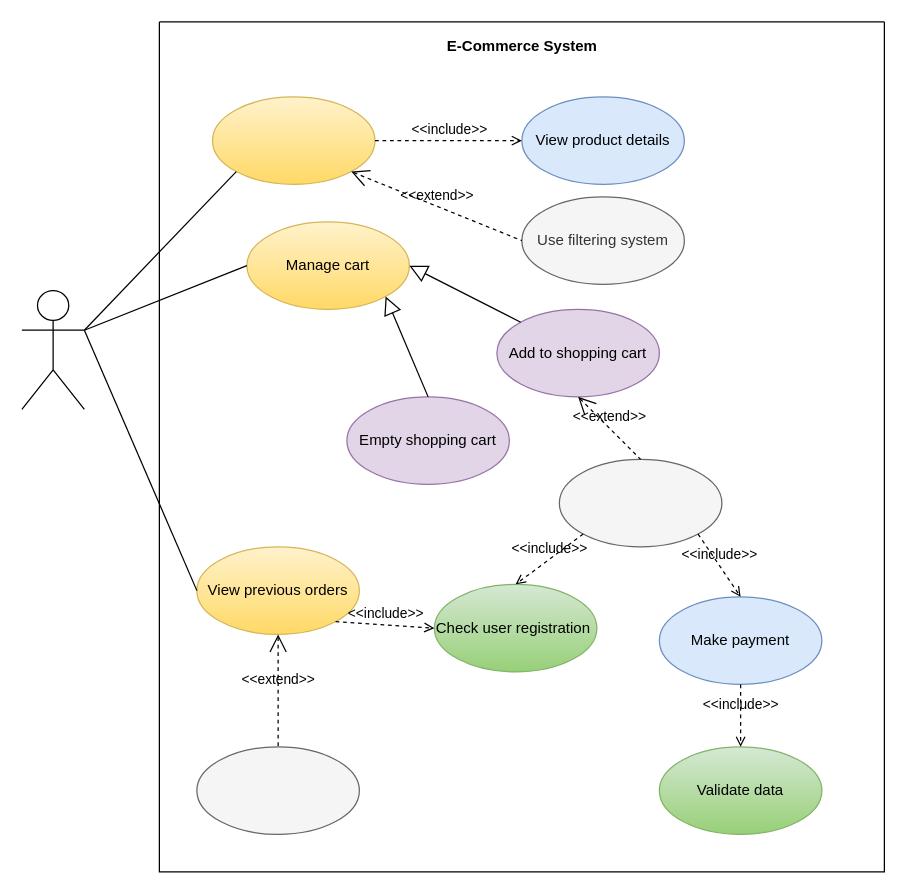
This 906x894 diagram has some shape labels left out. Here are the shapes that lost their labels. From the top down, the centre of each, then its label:
At (293,140): "Search for a product".
At (52,349): "Client".
At (640,502): "Buy product".
At (277,790): "Submit a review".
